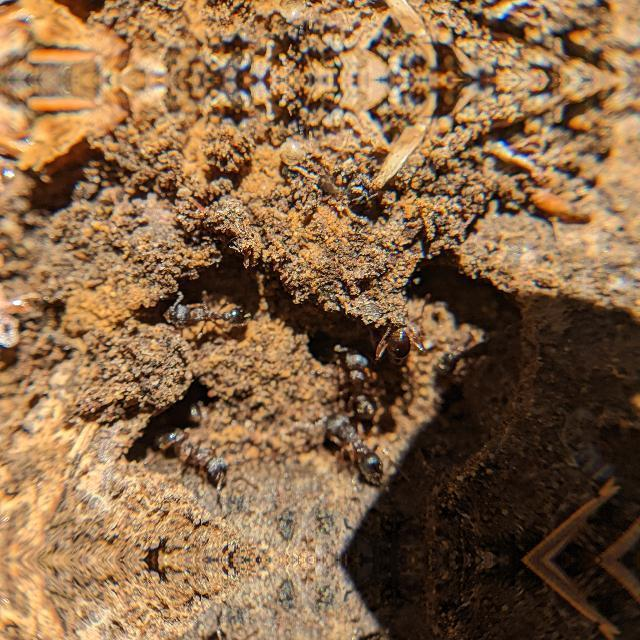Temnothorax: (316, 381, 406, 511), (150, 411, 246, 503), (146, 284, 262, 344), (316, 608, 404, 640), (150, 616, 246, 640)
